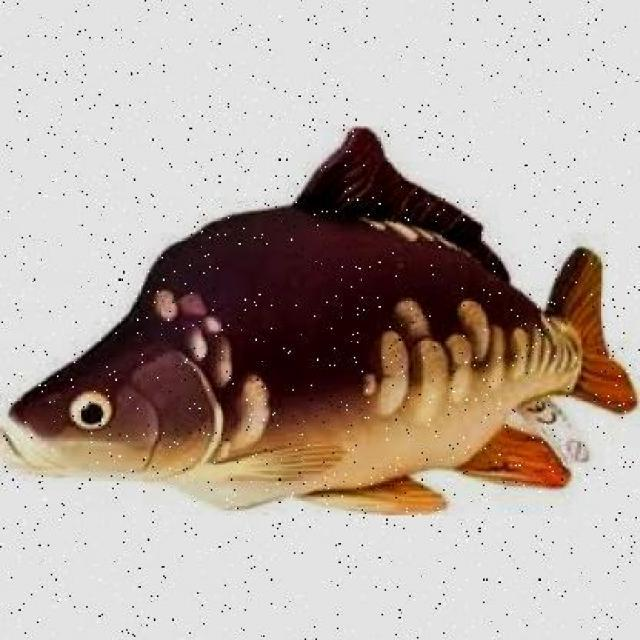ikan-mas: (7, 124, 638, 507)
